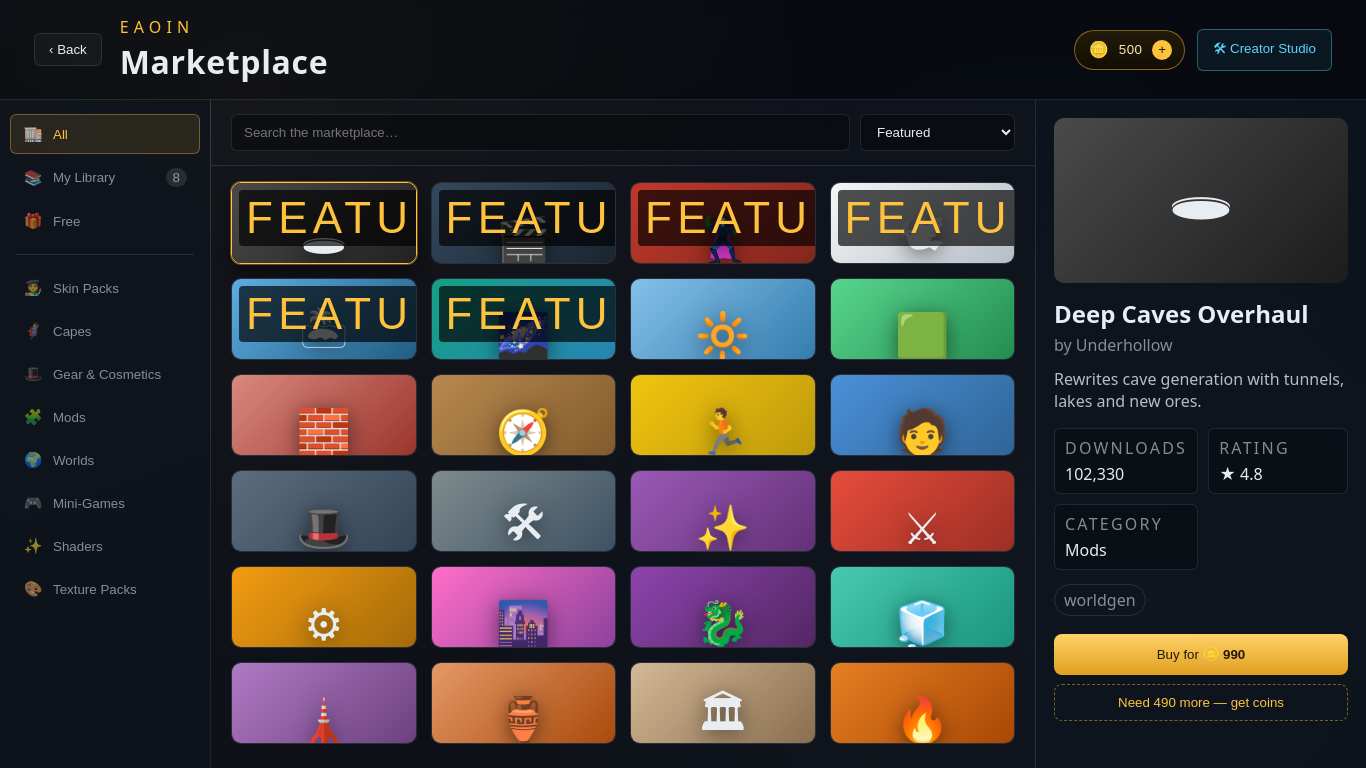
MarketplaceScreen › opens the coin store from the balance pill
Click the button with class "mk-coin-pill": (1130, 50) [1074,30,1185,70]
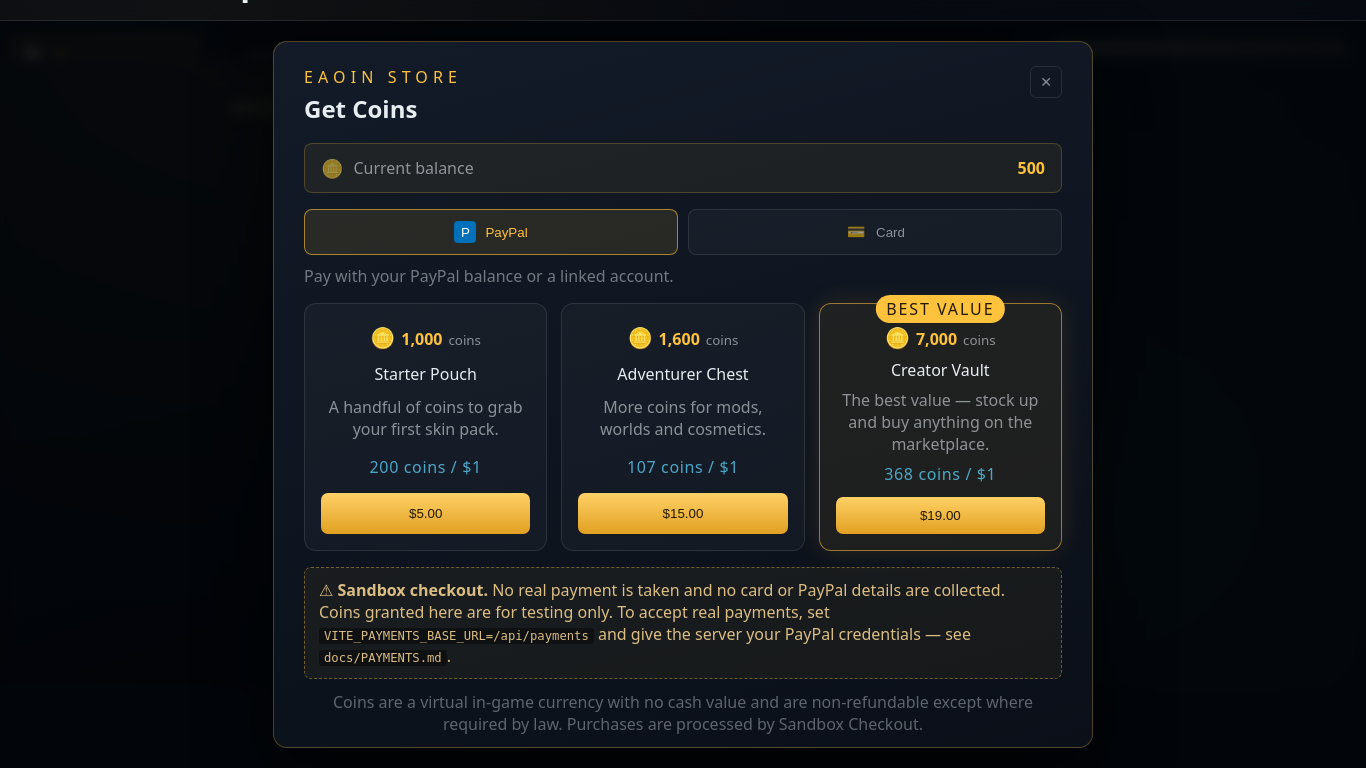
Expected: the text "Get Coins" is shown, [304,92,417,125]
Expected: the dialog named "buy coins" is shown
